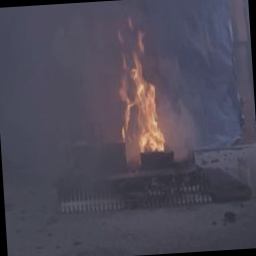fire: (113, 21, 162, 156)
